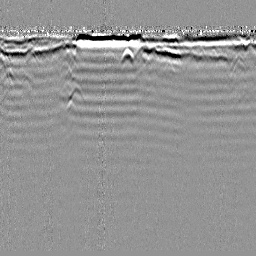cavity: (120, 47, 134, 63)
